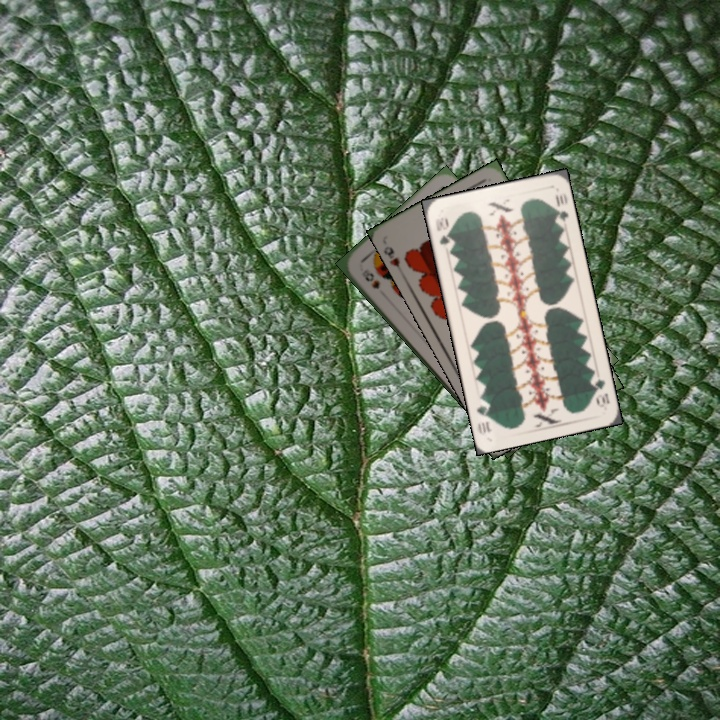G10: (589, 370, 612, 410), (431, 213, 454, 247)
H9: (381, 243, 405, 275)
S8: (357, 265, 383, 292)
